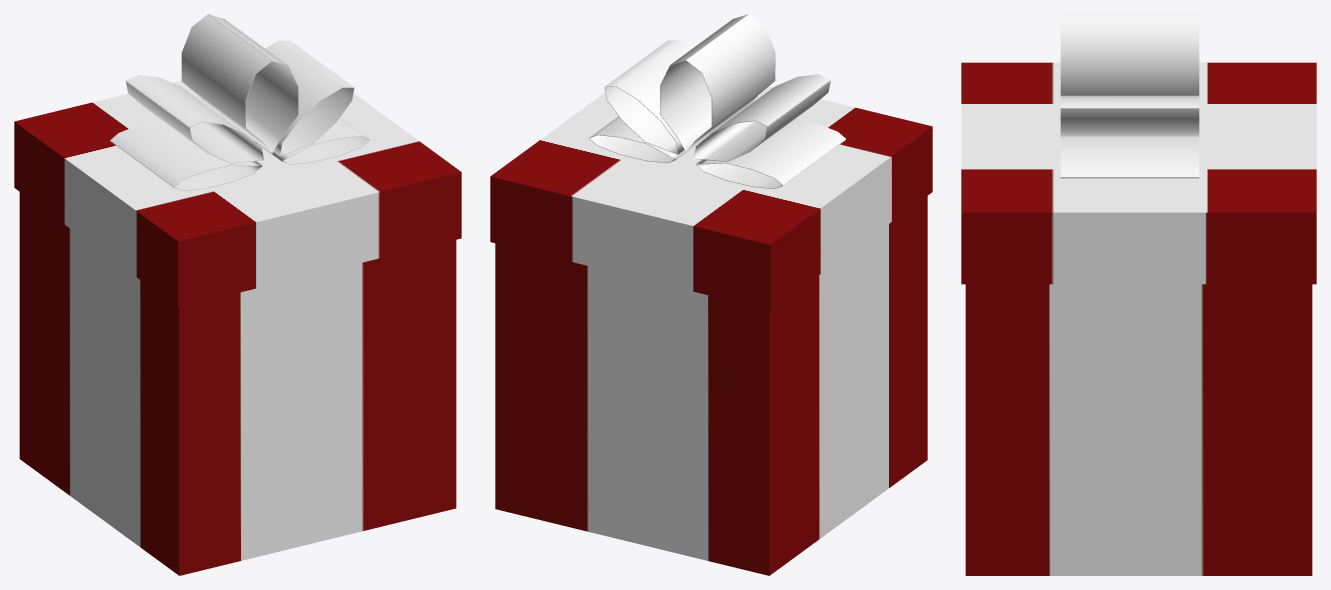
File: present_plain_ver1.fbx
3 views of the same model, side by side, from view 1: azimuth 30°, elevation 25°; view 2: azimuth 150°, elevation 25°; view 3: azimuth 270°, elevation 25° (orthographic). The views are drawn at different scales.
Visible parts, largest first — view 1: Box, Top; view 2: Box, Top; view 3: Box, Top.
Part boxes in pixels (left/top/right/bottom): Box: left=19, top=192, right=456, bottom=575; Top: left=14, top=14, right=461, bottom=307; Box: left=495, top=196, right=927, bottom=575; Top: left=490, top=14, right=932, bottom=310; Box: left=965, top=284, right=1312, bottom=575; Top: left=961, top=14, right=1316, bottom=284.
Size of the model in its own units: 10.24 by 15.52 by 10.24.
